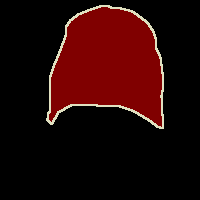hat: (47, 5, 163, 128)
